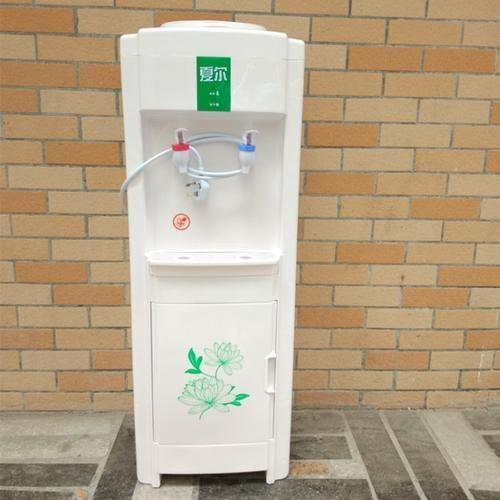Dispenser: (117, 19, 305, 484)
